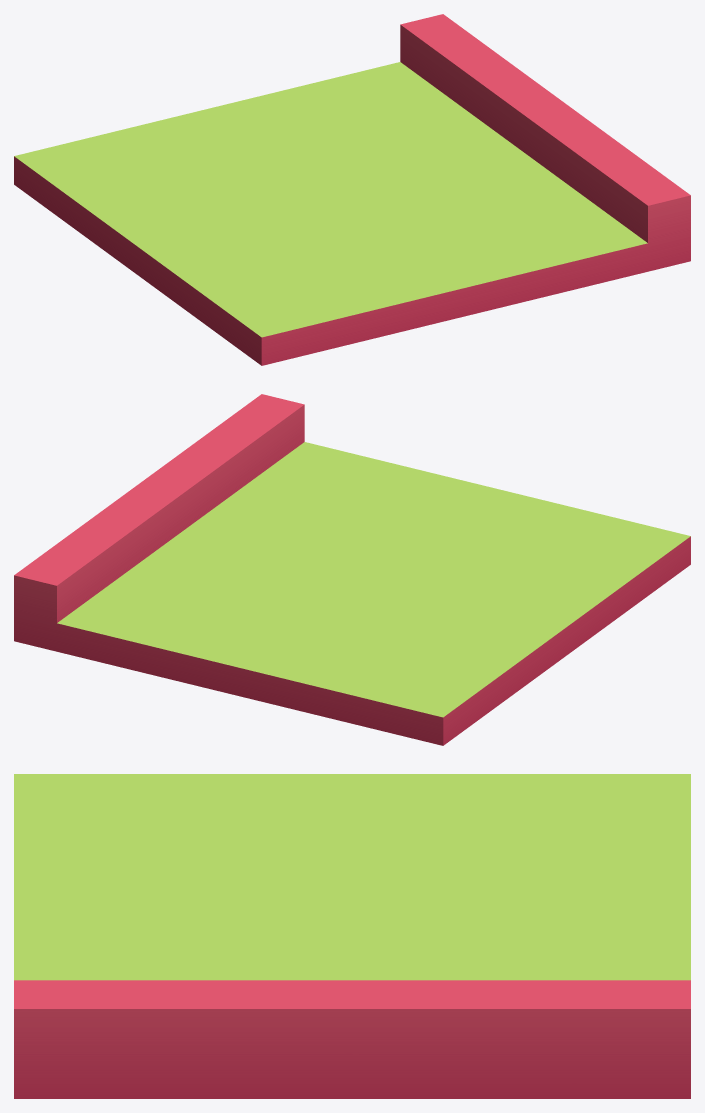
The model's file is side.fbx.
3 renders of one model, top to bottom at view 1: azimuth 30°, elevation 25°; view 2: azimuth 150°, elevation 25°; view 3: azimuth 270°, elevation 25°, orthographic. The views are drawn at different scales.
Visible parts, largest first — view 1: side; view 2: side; view 3: side.
Part boxes in pixels (bbox=[...]): side: bbox=[14, 14, 690, 365]; side: bbox=[14, 394, 690, 745]; side: bbox=[14, 774, 690, 1098].
Bounding box in the file's own units: 99.99 × 14.67 × 99.99.
